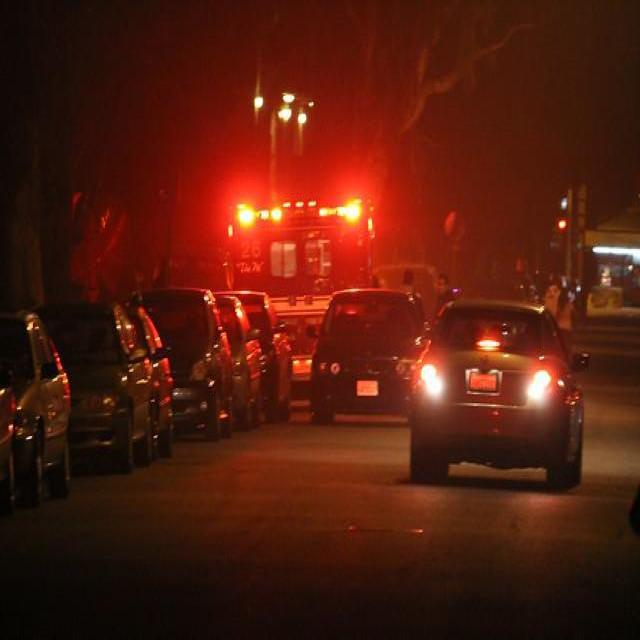other: (209, 190, 380, 236), (237, 82, 321, 135), (402, 339, 451, 411), (518, 355, 560, 416), (471, 322, 513, 359)
